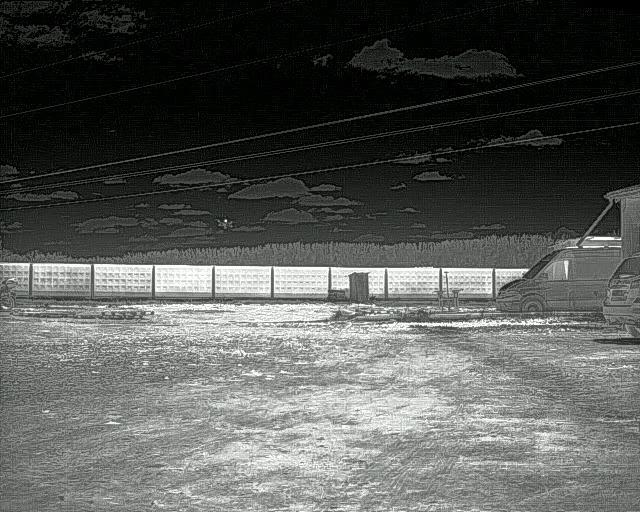drone-thermal: (215, 217, 236, 231)
